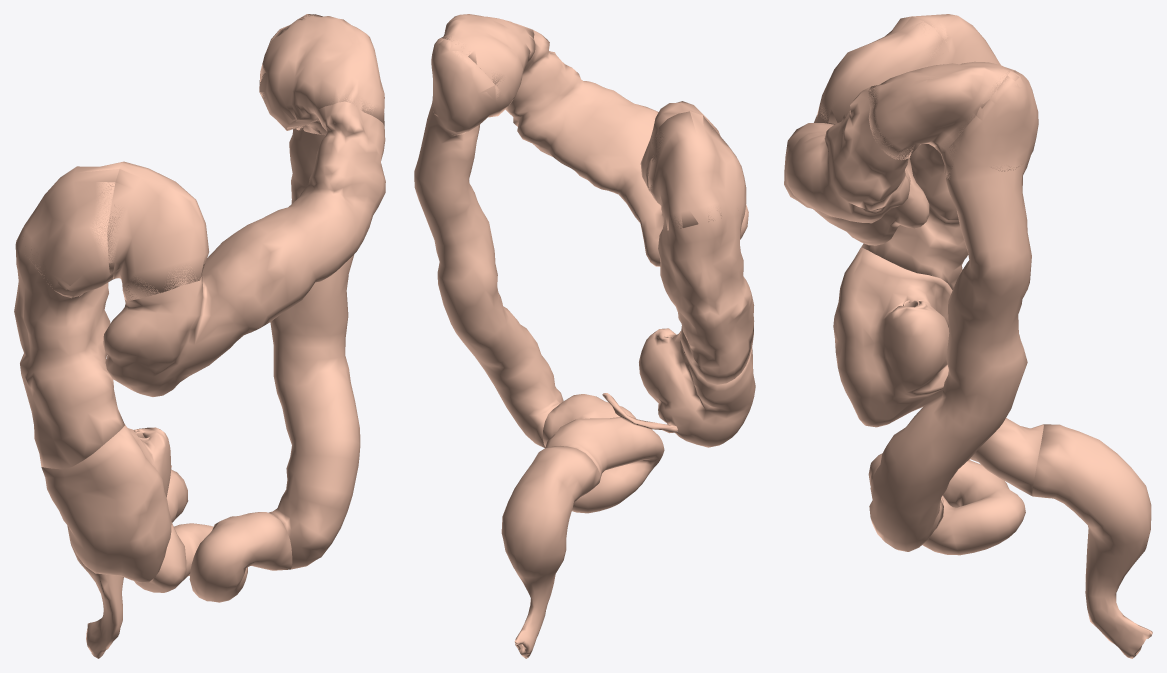
Rendered from sbu_m_intestine_large-80.glb.
3 views of the same model, side by side, from view 1: azimuth 30°, elevation 25°; view 2: azimuth 150°, elevation 25°; view 3: azimuth 270°, elevation 25° (orthographic). The views are drawn at different scales.
Parts seen in each view (by area): view 1: VH_M_transverse_colon, VH_M_ascending_colon, VH_M_descending_colon, VH_M_caecum, VH_M_hepatic_flexure_of_colon, VH_M_splenic_flexure_of_colon, VH_M_sigmoid_colon, VH_M_rectum; view 2: VH_M_descending_colon, VH_M_ascending_colon, VH_M_transverse_colon, VH_M_rectum, VH_M_caecum, VH_M_sigmoid_colon, VH_M_splenic_flexure_of_colon, VH_M_hepatic_flexure_of_colon, VH_M_vermiform_appendix; view 3: VH_M_descending_colon, VH_M_transverse_colon, VH_M_caecum, VH_M_rectum, VH_M_splenic_flexure_of_colon, VH_M_sigmoid_colon, VH_M_ascending_colon, VH_M_hepatic_flexure_of_colon.
Part boxes in pixels (x1=…): VH_M_transverse_colon: x1=103, y1=14, x2=385, y2=396; VH_M_ascending_colon: x1=14, y1=162, x2=124, y2=469; VH_M_descending_colon: x1=259, y1=14, x2=360, y2=569; VH_M_caecum: x1=41, y1=424, x2=171, y2=582; VH_M_hepatic_flexure_of_colon: x1=23, y1=161, x2=207, y2=301; VH_M_splenic_flexure_of_colon: x1=259, y1=14, x2=384, y2=135; VH_M_sigmoid_colon: x1=134, y1=469, x2=292, y2=602; VH_M_rectum: x1=67, y1=525, x2=123, y2=658; VH_M_descending_colon: x1=414, y1=38, x2=563, y2=447; VH_M_ascending_colon: x1=648, y1=111, x2=754, y2=384; VH_M_transverse_colon: x1=439, y1=14, x2=748, y2=266; VH_M_rectum: x1=501, y1=446, x2=600, y2=658; VH_M_caecum: x1=639, y1=328, x2=755, y2=447; VH_M_sigmoid_colon: x1=543, y1=394, x2=664, y2=513; VH_M_splenic_flexure_of_colon: x1=431, y1=14, x2=535, y2=135; VH_M_hepatic_flexure_of_colon: x1=640, y1=101, x2=746, y2=230; VH_M_vermiform_appendix: x1=602, y1=393, x2=677, y2=433; VH_M_descending_colon: x1=869, y1=70, x2=1038, y2=551; VH_M_transverse_colon: x1=784, y1=16, x2=1011, y2=245; VH_M_caecum: x1=833, y1=247, x2=952, y2=427; VH_M_rectum: x1=1032, y1=424, x2=1152, y2=658; VH_M_splenic_flexure_of_colon: x1=868, y1=61, x2=1038, y2=179; VH_M_sigmoid_colon: x1=868, y1=418, x2=1043, y2=555; VH_M_ascending_colon: x1=861, y1=14, x2=999, y2=289; VH_M_hepatic_flexure_of_colon: x1=817, y1=15, x2=1000, y2=123.
Size of the model in its own units: 0.2591 by 0.4503 by 0.2248.
